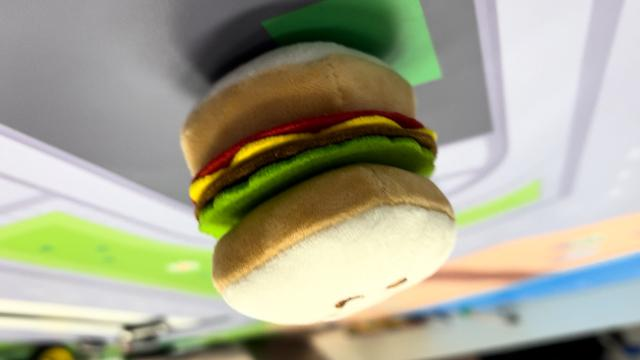sandwich: (177, 38, 459, 326)
